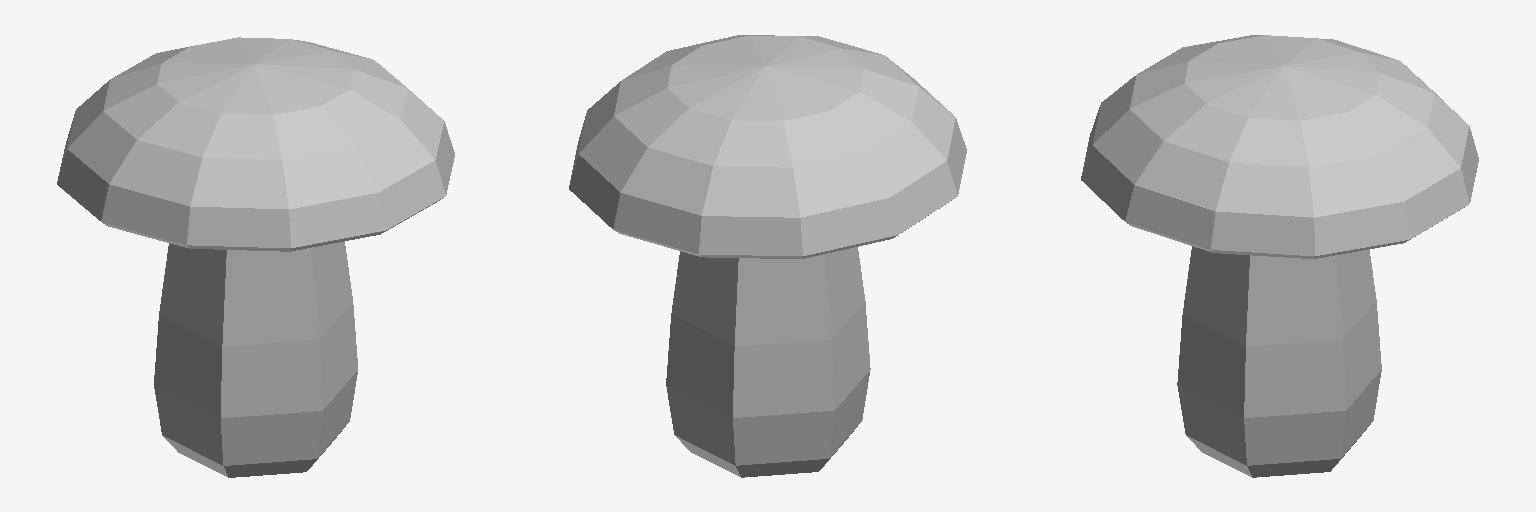
File: mushroom_n_2_0.obj
The picture shows the model from 3 angles: view 1: azimuth 30°, elevation 25°; view 2: azimuth 150°, elevation 25°; view 3: azimuth 270°, elevation 25°; orthographic projection.
Parts seen in each view (by area): view 1: mushroom_n_2_0; view 2: mushroom_n_2_0; view 3: mushroom_n_2_0.
Part boxes in pixels (bbox=[...]): mushroom_n_2_0: bbox=[57, 37, 454, 477]; mushroom_n_2_0: bbox=[569, 35, 966, 477]; mushroom_n_2_0: bbox=[1081, 35, 1478, 477].
Bounding box in the file's own units: 0.4149 × 0.4377 × 0.4148.